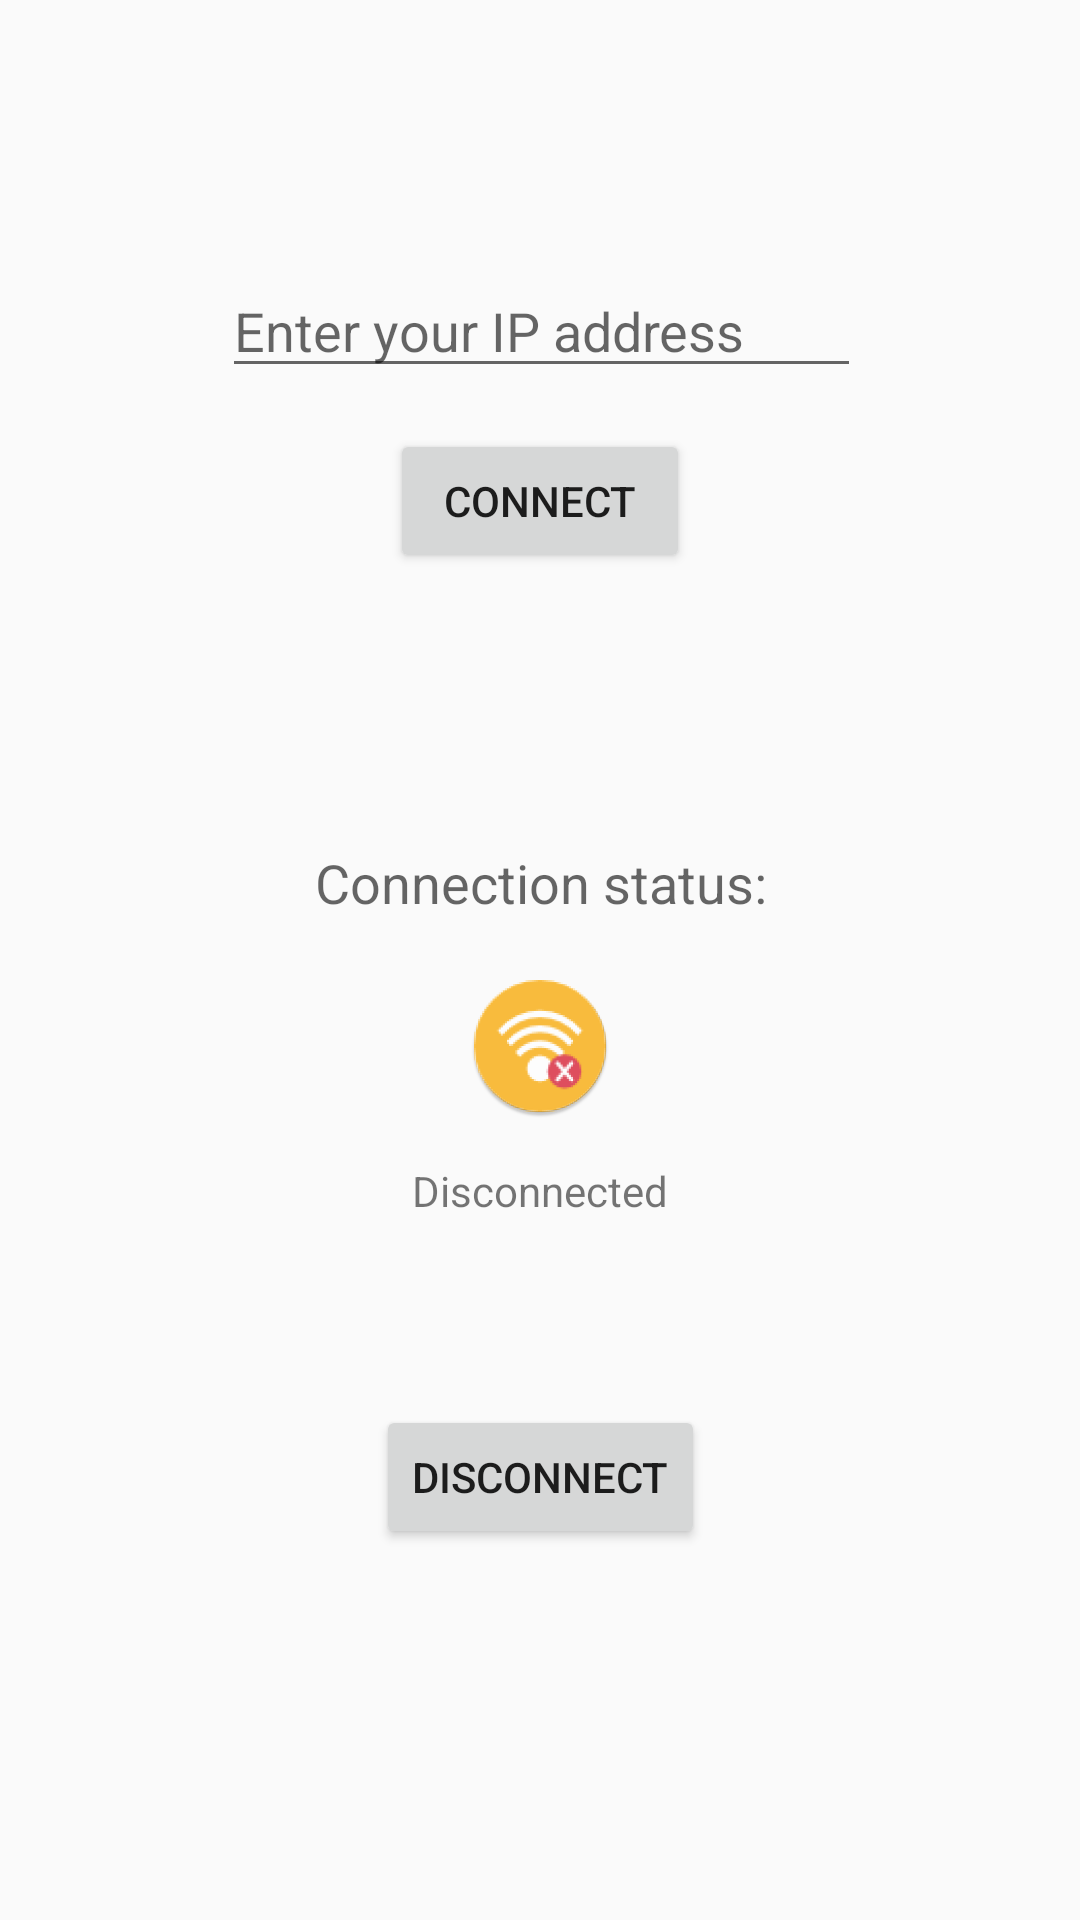

Screen size 1080 × 1920. Icon name, then its center in pixels as [x,y]:
wifi no: [540,1047]
